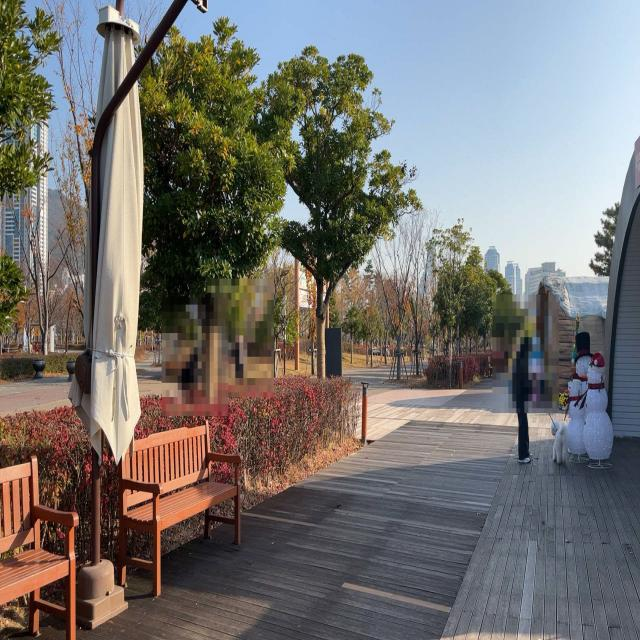Leashed_Dog: (516, 387, 569, 468)
